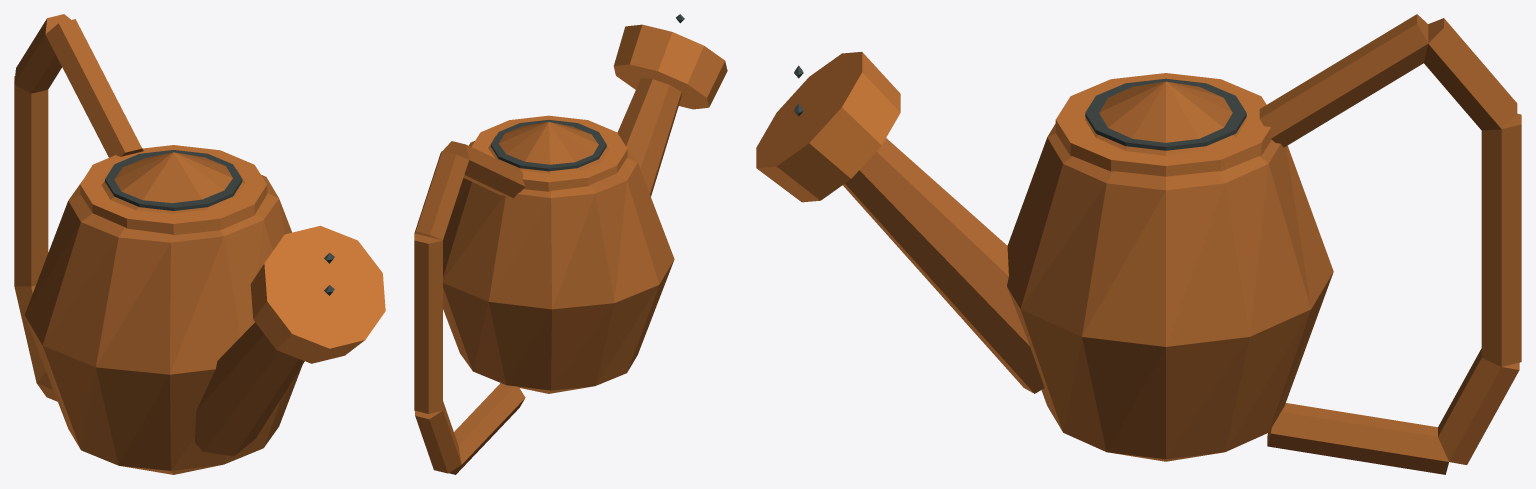
Rendered from tool_can_copper.glb.
3 renders of one model, left to right at view 1: azimuth 30°, elevation 25°; view 2: azimuth 150°, elevation 25°; view 3: azimuth 270°, elevation 25°, orthographic. The views are drawn at different scales.
Visible parts, largest first — view 1: tool_can_copper; view 2: tool_can_copper; view 3: tool_can_copper.
Boxes of the visible parts, x1,y1,x2,y2 form: tool_can_copper: [14, 14, 385, 474]; tool_can_copper: [414, 14, 727, 474]; tool_can_copper: [756, 14, 1521, 474].
Size of the model in its own units: 0.34 by 0.4746 by 0.7295.
